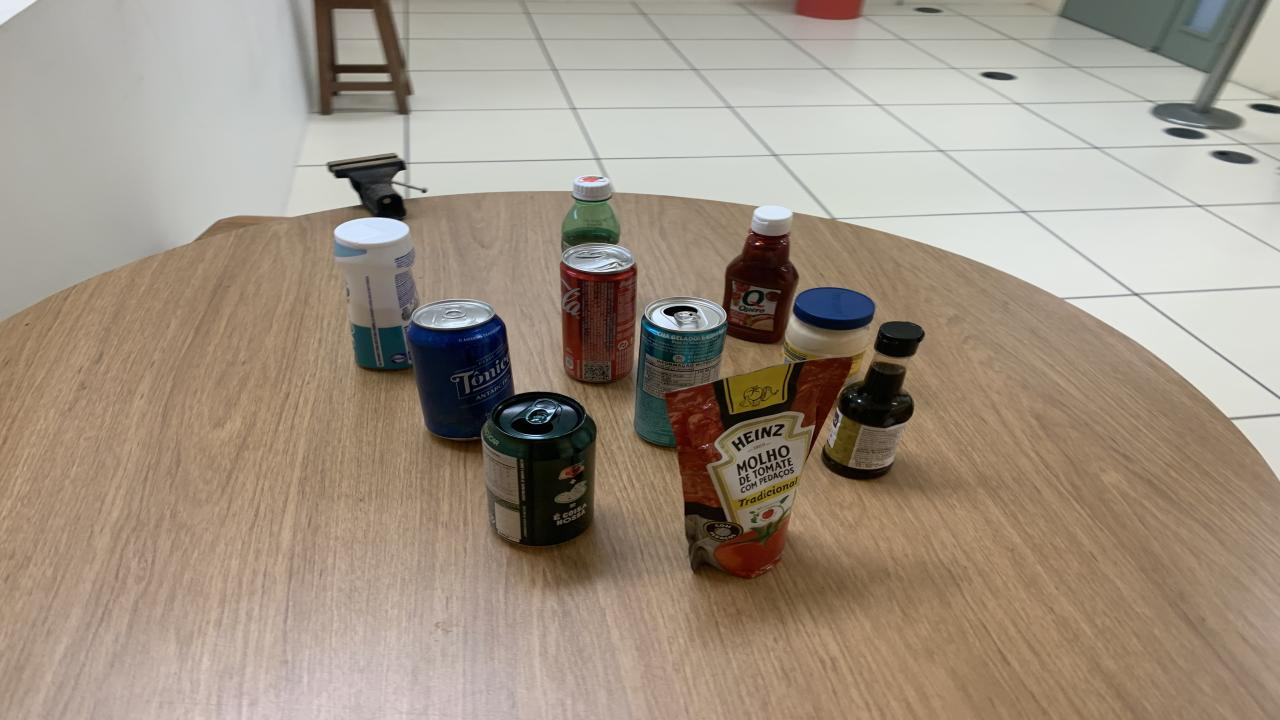Cleaner-Cleanup_Items: (332, 218, 420, 369)
Coke-Drinks: (560, 244, 638, 382)
English_Sauce-Pantry_Items: (822, 322, 925, 478)
Guarana-Drinks: (562, 174, 620, 249)
Guarana_Can-Drinks: (482, 392, 598, 546)
Ketchup-Pantry_Items: (722, 206, 798, 343)
Mayonnaise-Pantry_Items: (782, 287, 875, 384)
Tea-Drinks: (635, 296, 728, 446)
Tomato_Sauce-Pantry_Items: (668, 358, 848, 578), (722, 364, 792, 414)
Tonic-Drinks: (405, 300, 515, 439)
